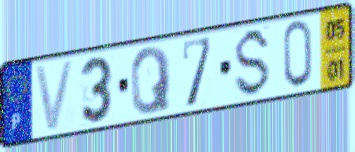0: (280, 18, 314, 92)
3: (78, 53, 116, 126)
7: (181, 34, 213, 110)
Q: (129, 44, 173, 118)
S: (231, 25, 273, 100)
V: (32, 56, 78, 136)
